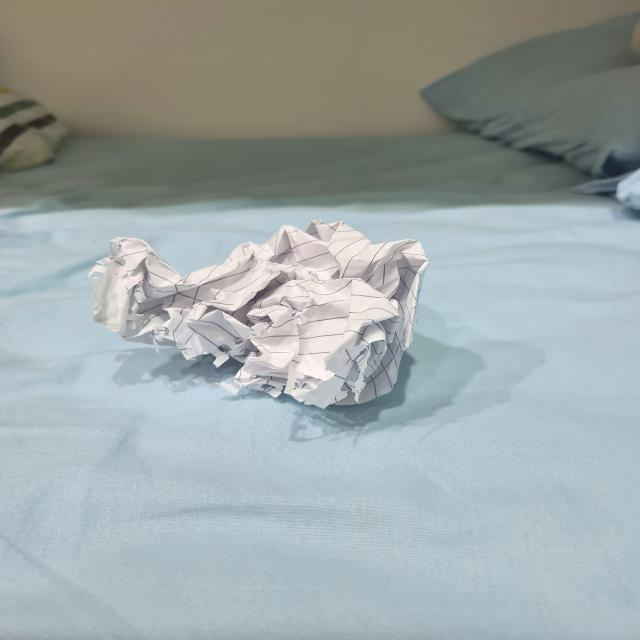Paper: (74, 208, 440, 426)
